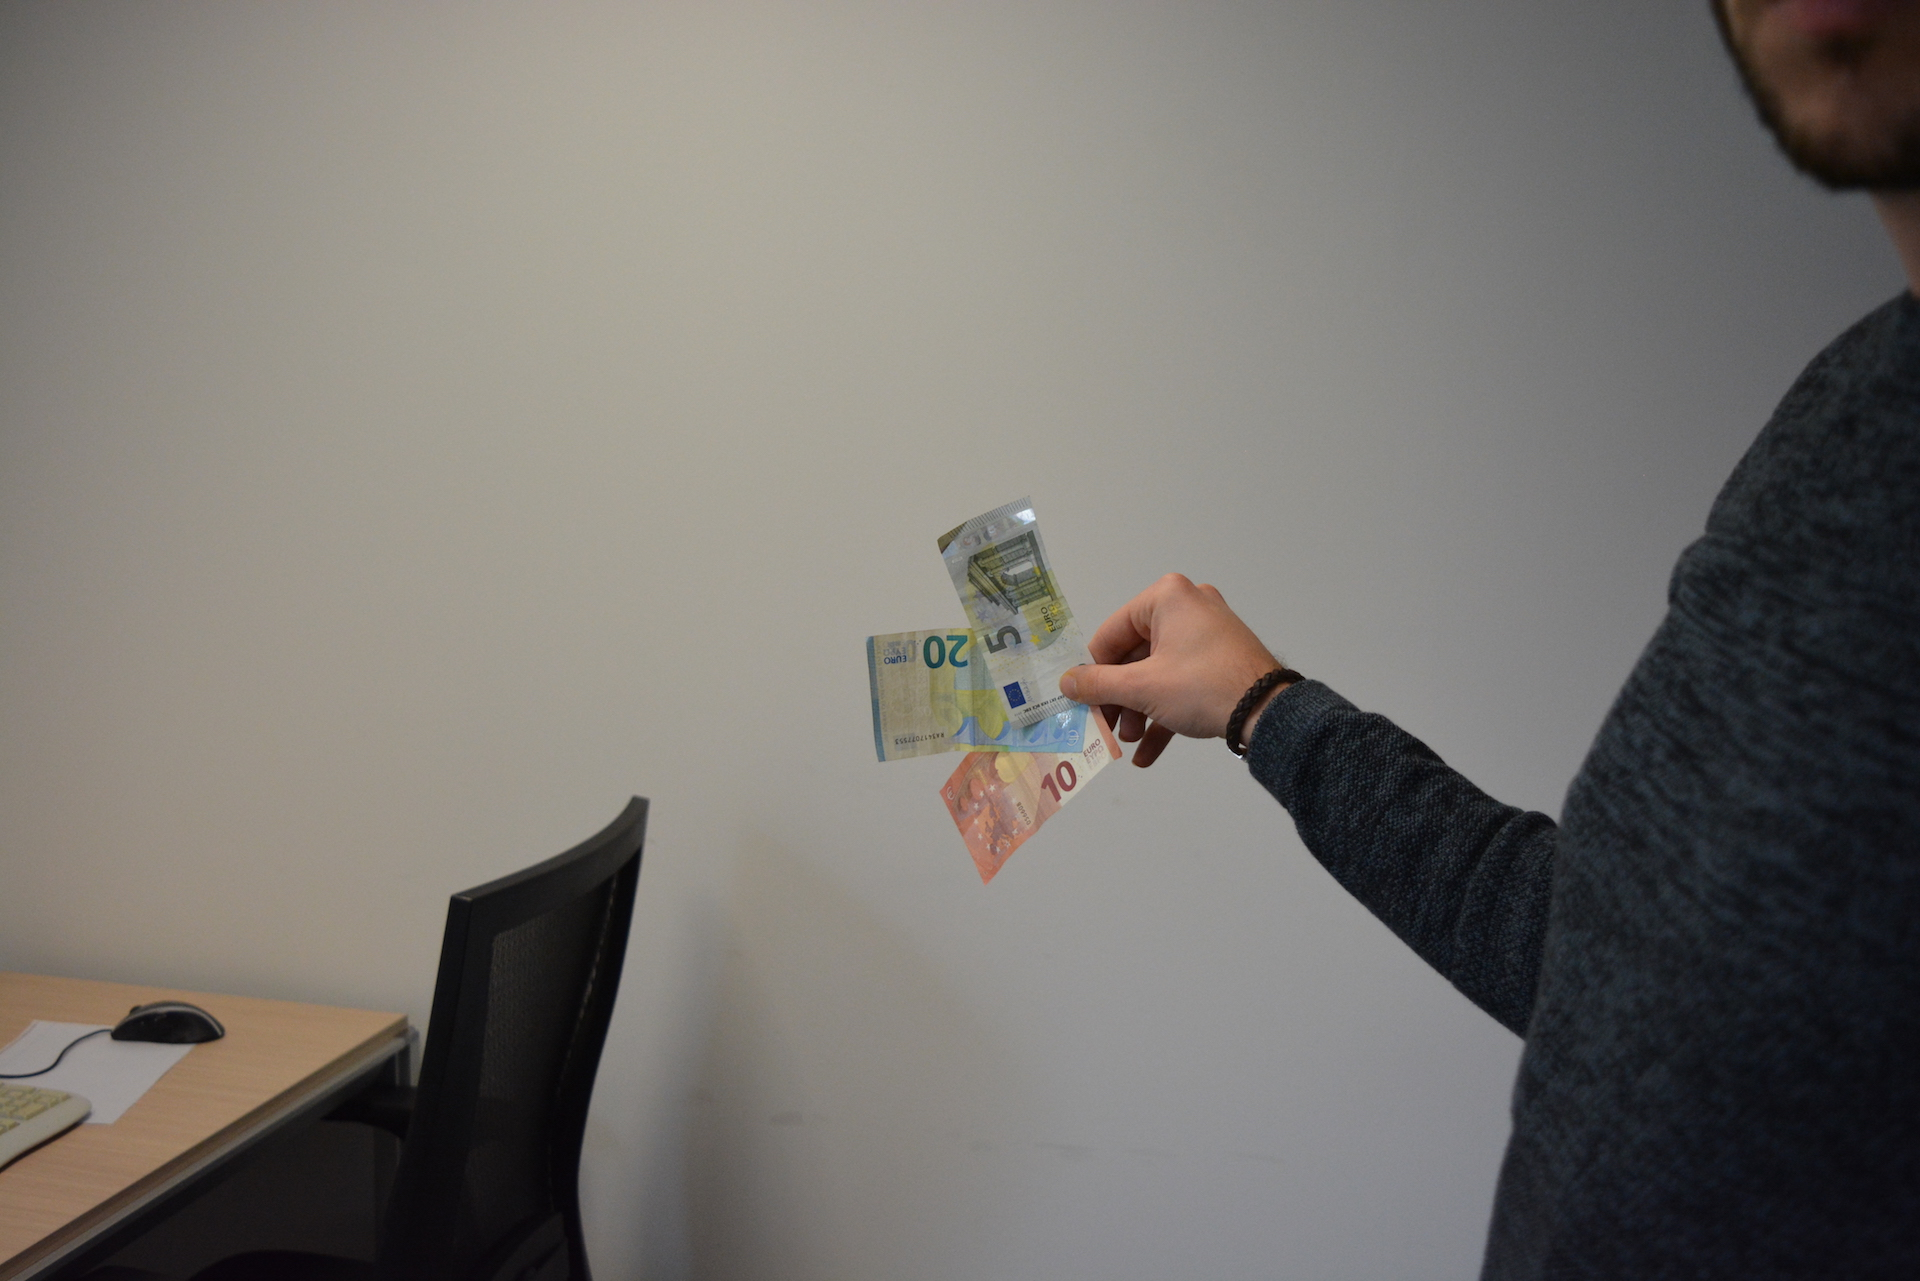billete: (936, 493, 1101, 733), (938, 701, 1127, 888), (863, 628, 1091, 763)
